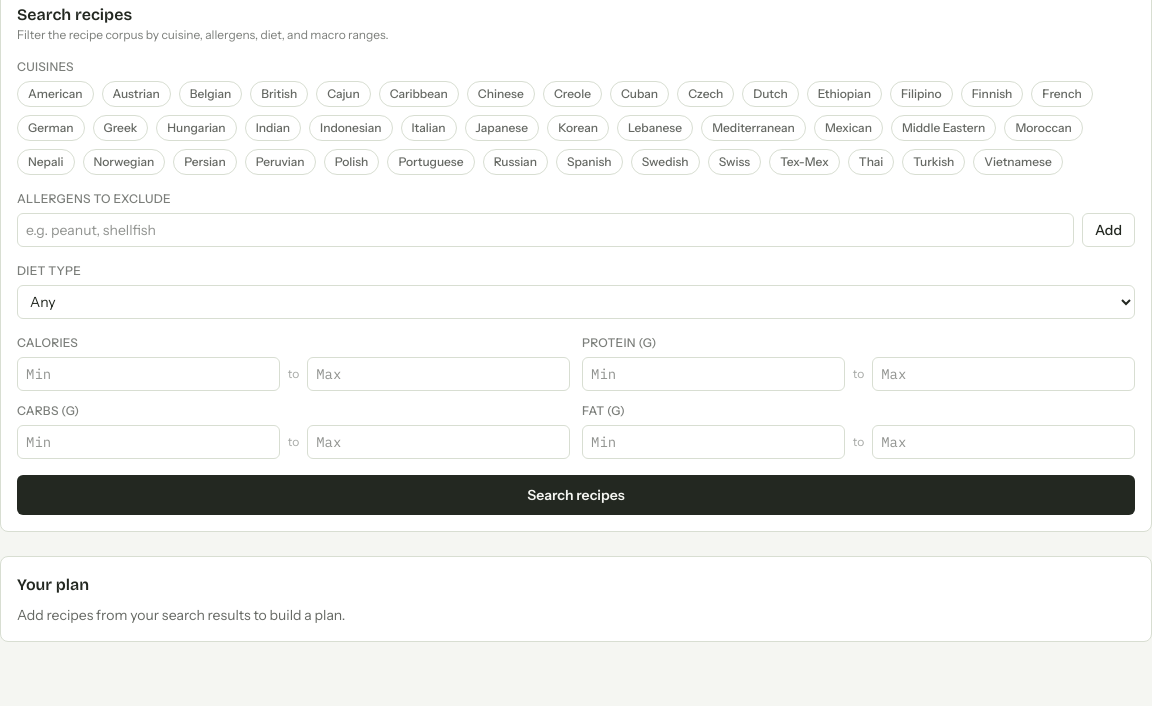
Test: RecipeSearchPage › adds a search result to the plan, then removes it
Step 1. Click the button "Search recipes" → click(576, 495), box [17,475,1135,515]
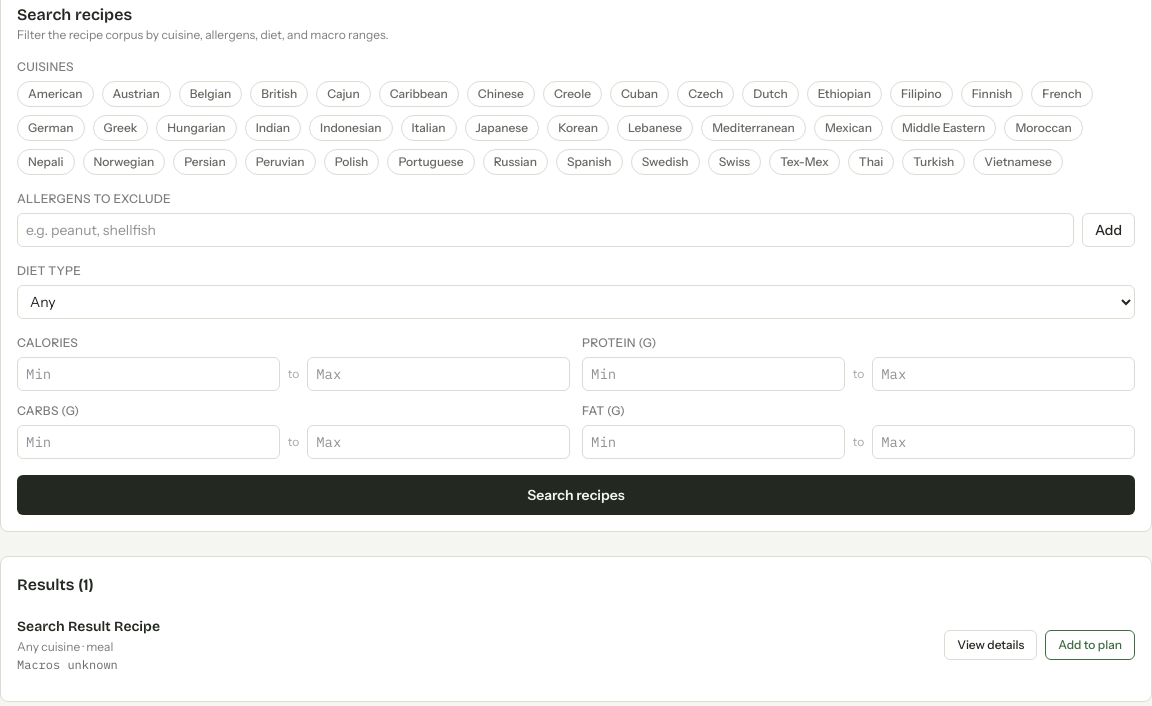
Check: the text "Search Result Recipe" is shown, box [17,617,160,637]
Step 2. Click the button "Add to plan" → click(1090, 645), box [1045,630,1135,660]
(page scrolled)
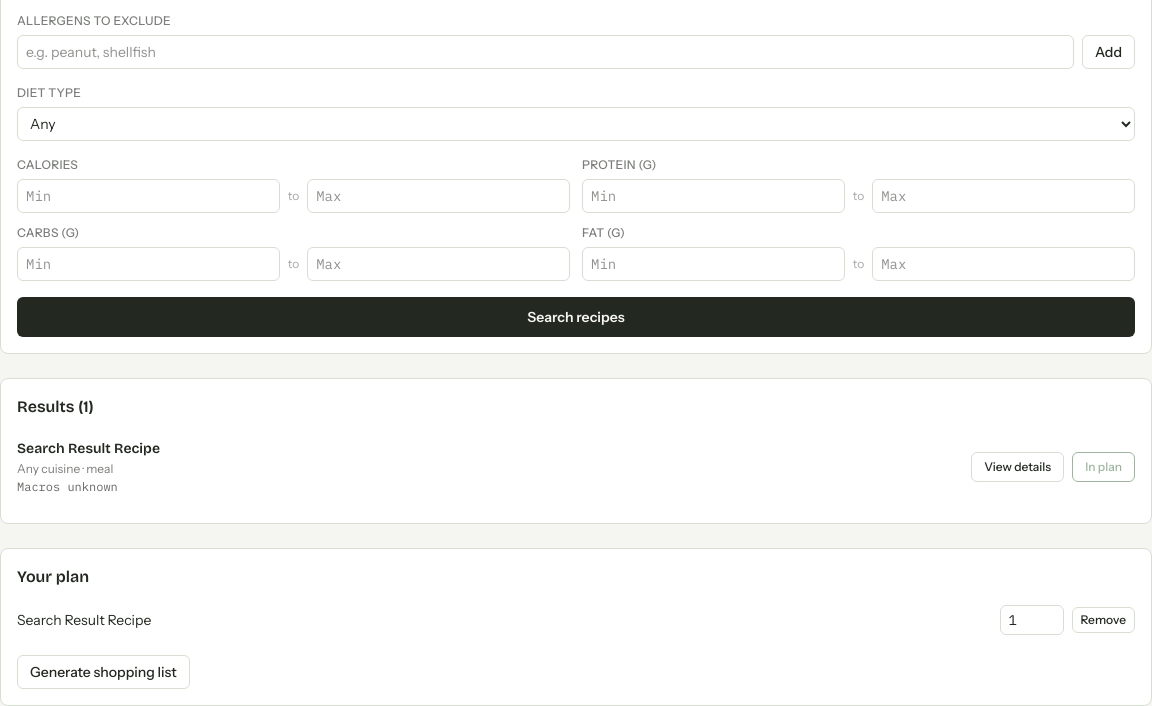
Check: the button "In plan" is disabled, box [1072,452,1135,482]
Check: the button "Search Result Recipe" is shown, box [17,610,151,630]
Step 3. Click the button with aria-label "Remove Search Result Recipe from plan" → click(1103, 620), box [1072,607,1135,633]
(page scrolled)
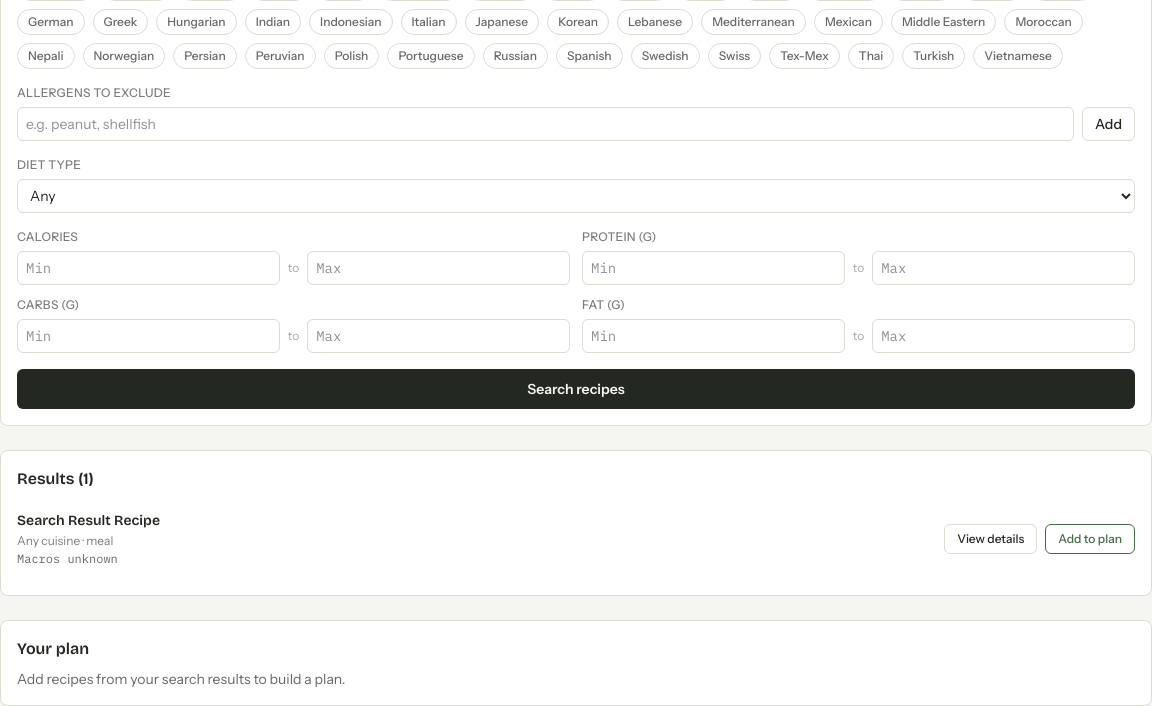
Check: the text "Add recipes from your search results to build a plan." is shown, box [17,670,345,688]
